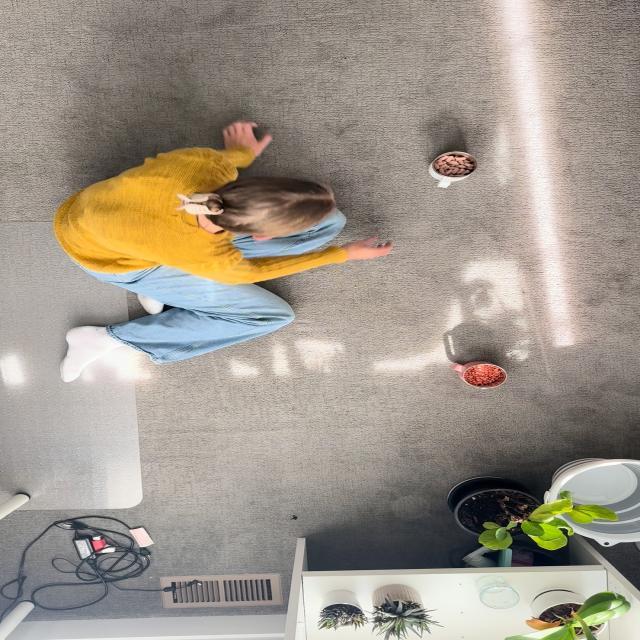IBC: (430, 152, 476, 188), (450, 361, 507, 388)
